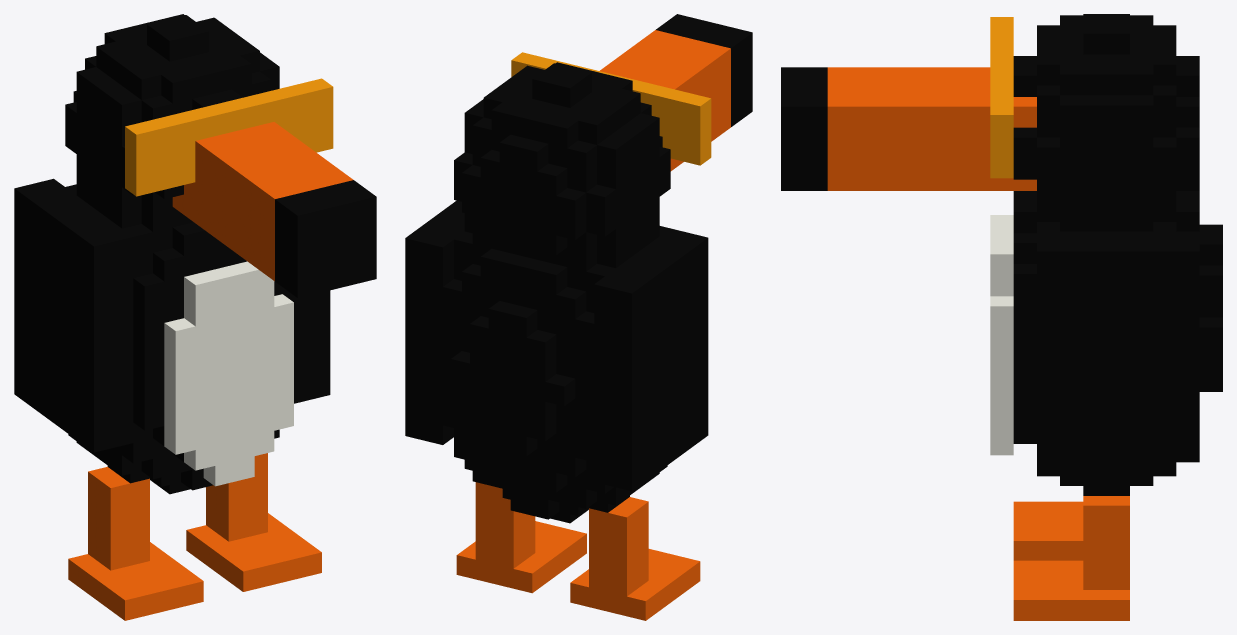
Rendered from fluriflura.glb.
3 views of the same model, side by side, from view 1: azimuth 30°, elevation 25°; view 2: azimuth 150°, elevation 25°; view 3: azimuth 270°, elevation 25° (orthographic). The views are drawn at different scales.
Visible parts, largest first — view 1: brainrot; view 2: brainrot; view 3: brainrot.
Boxes of the visible parts, x1=… form: brainrot: x1=14, y1=14, x2=376, y2=620; brainrot: x1=405, y1=14, x2=752, y2=620; brainrot: x1=781, y1=14, x2=1222, y2=620.
Size of the model in its own units: 1.57 by 3.4 by 2.48.
Materials: 1 (1 with a texture image).
